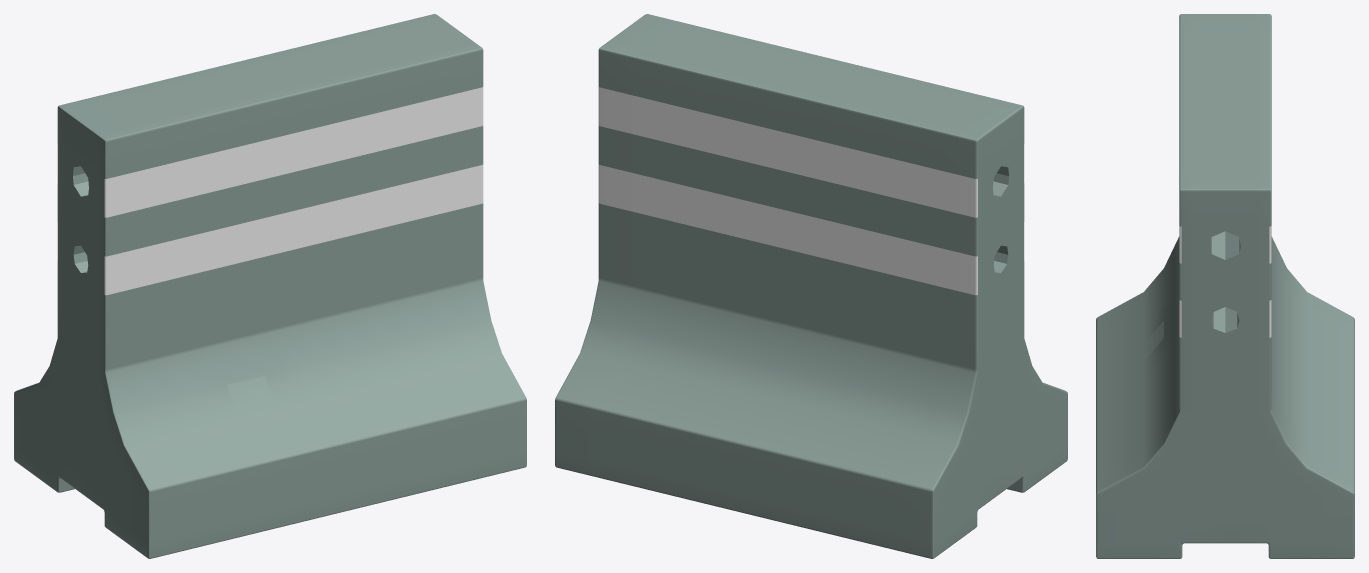
The model's file is grey_base_pink_line.fbx.
The picture shows the model from 3 angles, left to right: view 1: azimuth 30°, elevation 25°; view 2: azimuth 150°, elevation 25°; view 3: azimuth 270°, elevation 25°; orthographic projection. The views are drawn at different scales.
Parts seen in each view (by area): view 1: pCube1; view 2: pCube1; view 3: pCube1.
Part boxes in pixels (left/top/right/bottom): pCube1: left=14, top=14, right=526, bottom=558; pCube1: left=555, top=14, right=1067, bottom=558; pCube1: left=1096, top=14, right=1354, bottom=558.
Size of the model in its own units: 6.05 by 5.91 by 3.75.
